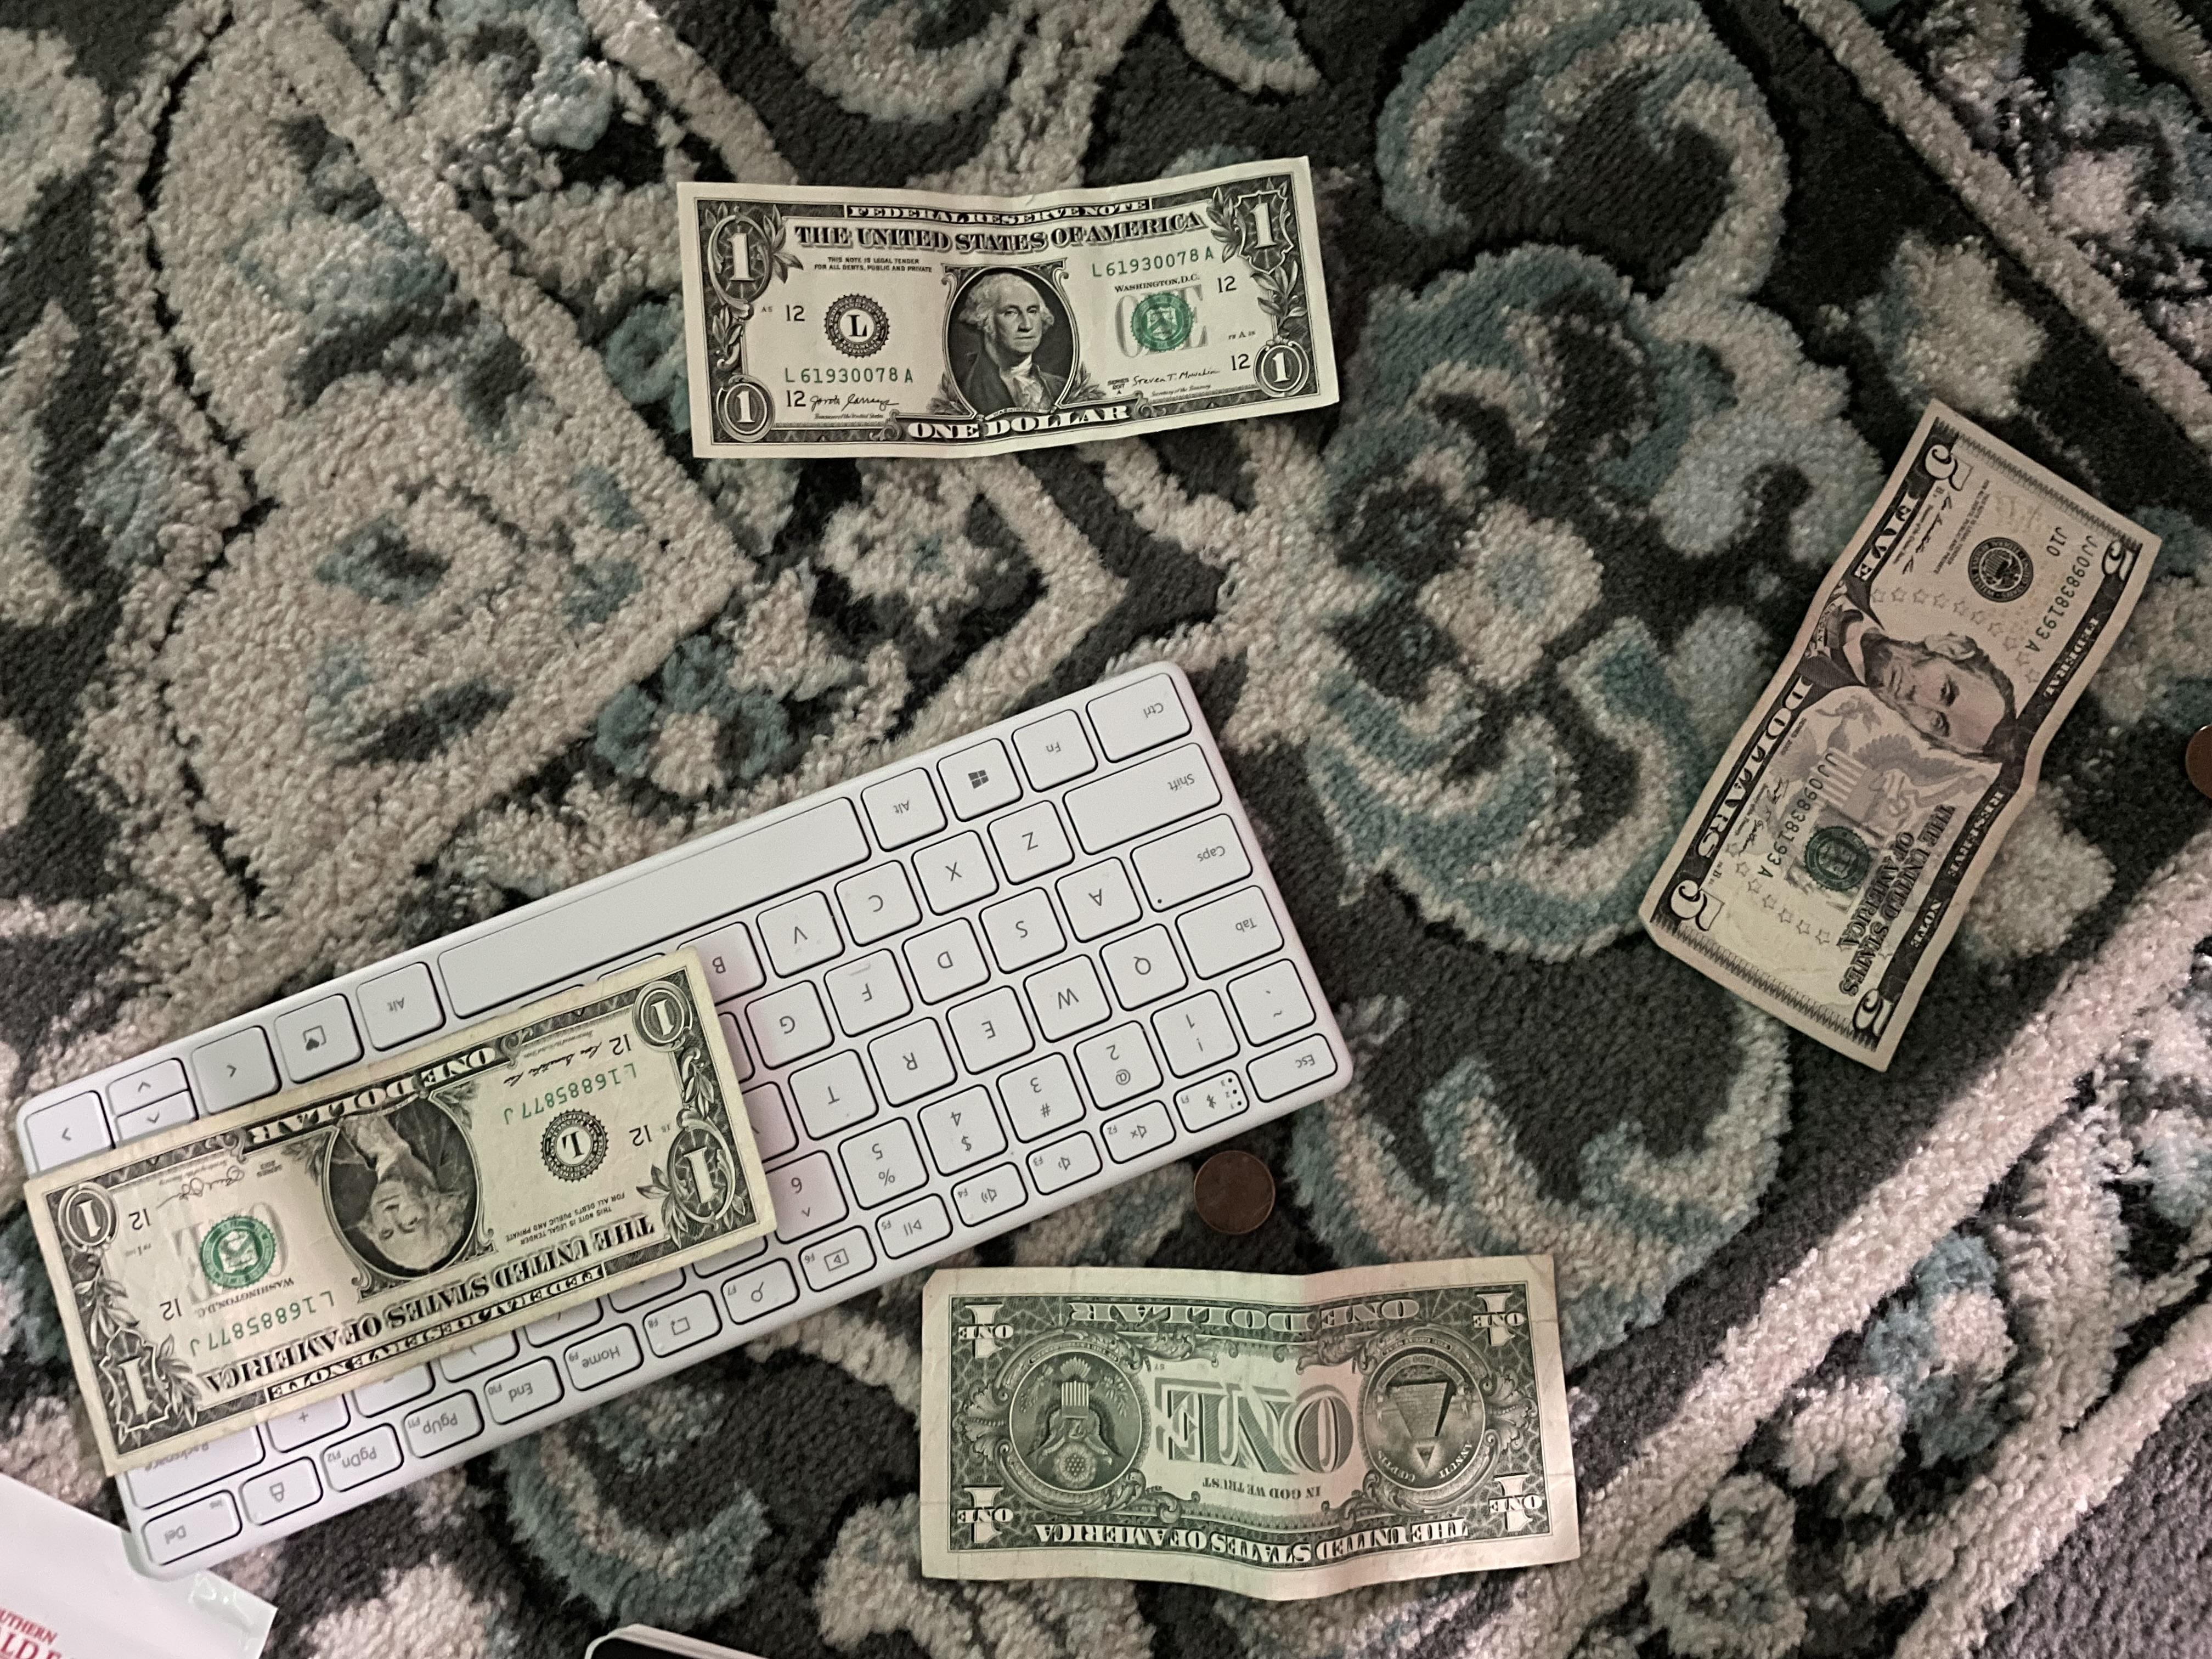FiveBill: (1623, 394, 2167, 1084)
OneBill: (26, 943, 848, 1481), (916, 1253, 1604, 1600), (662, 148, 1345, 467)
Penny: (1179, 1148, 1287, 1243)
